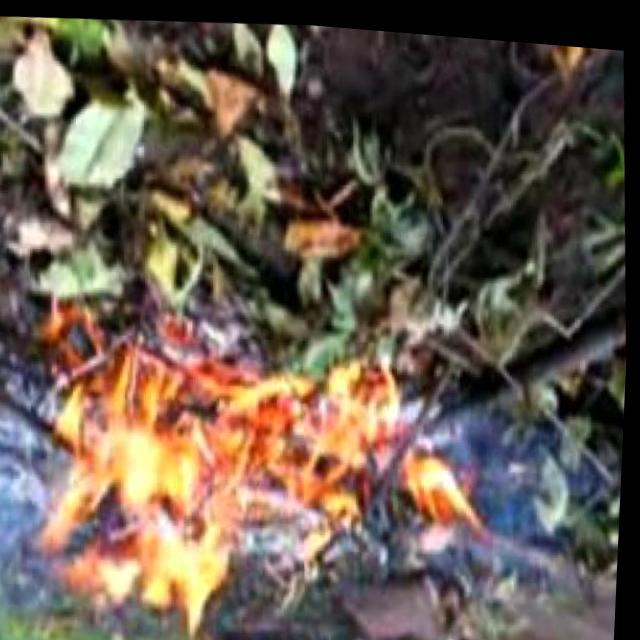fire: (29, 331, 482, 640)
